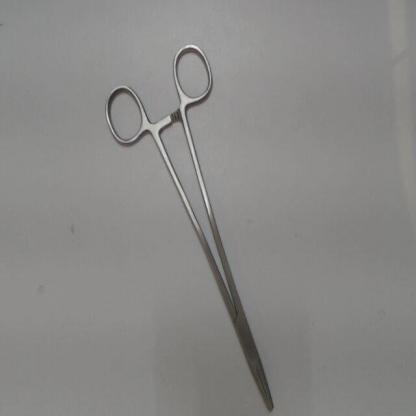8 Mayo Needle Holder: (95, 34, 283, 415)
